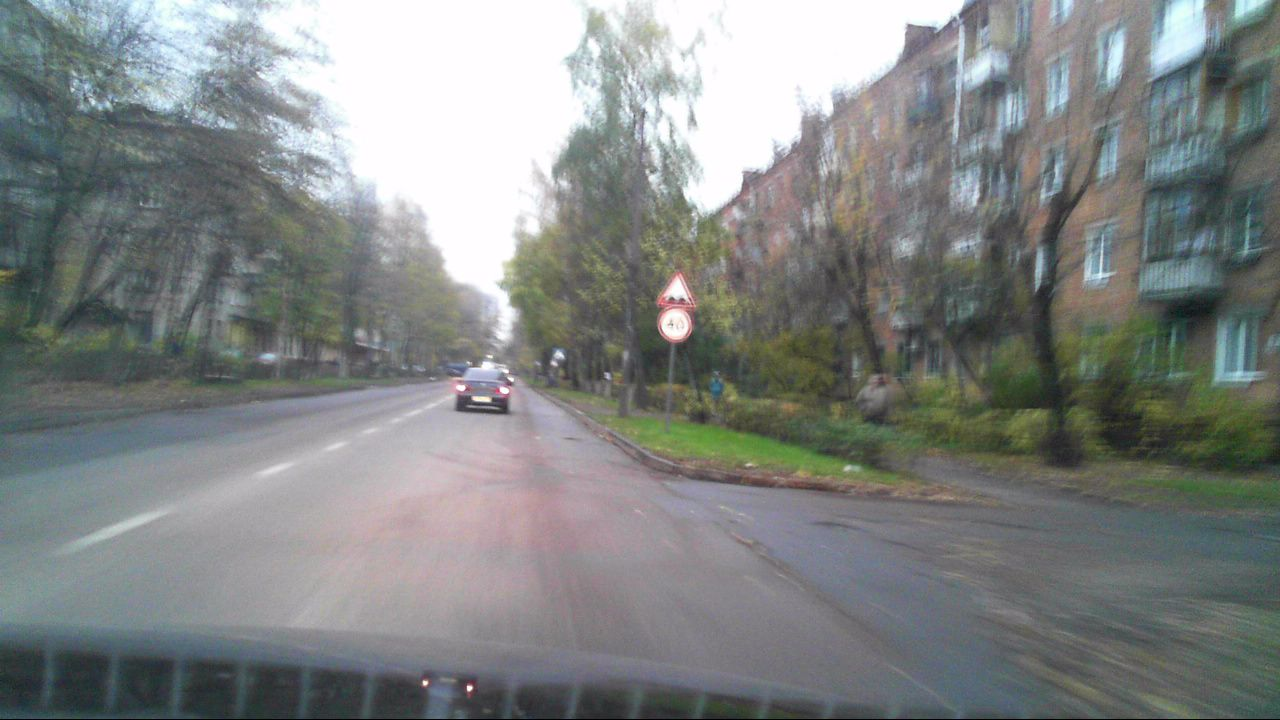speed_warning_40: (657, 308, 693, 342)
